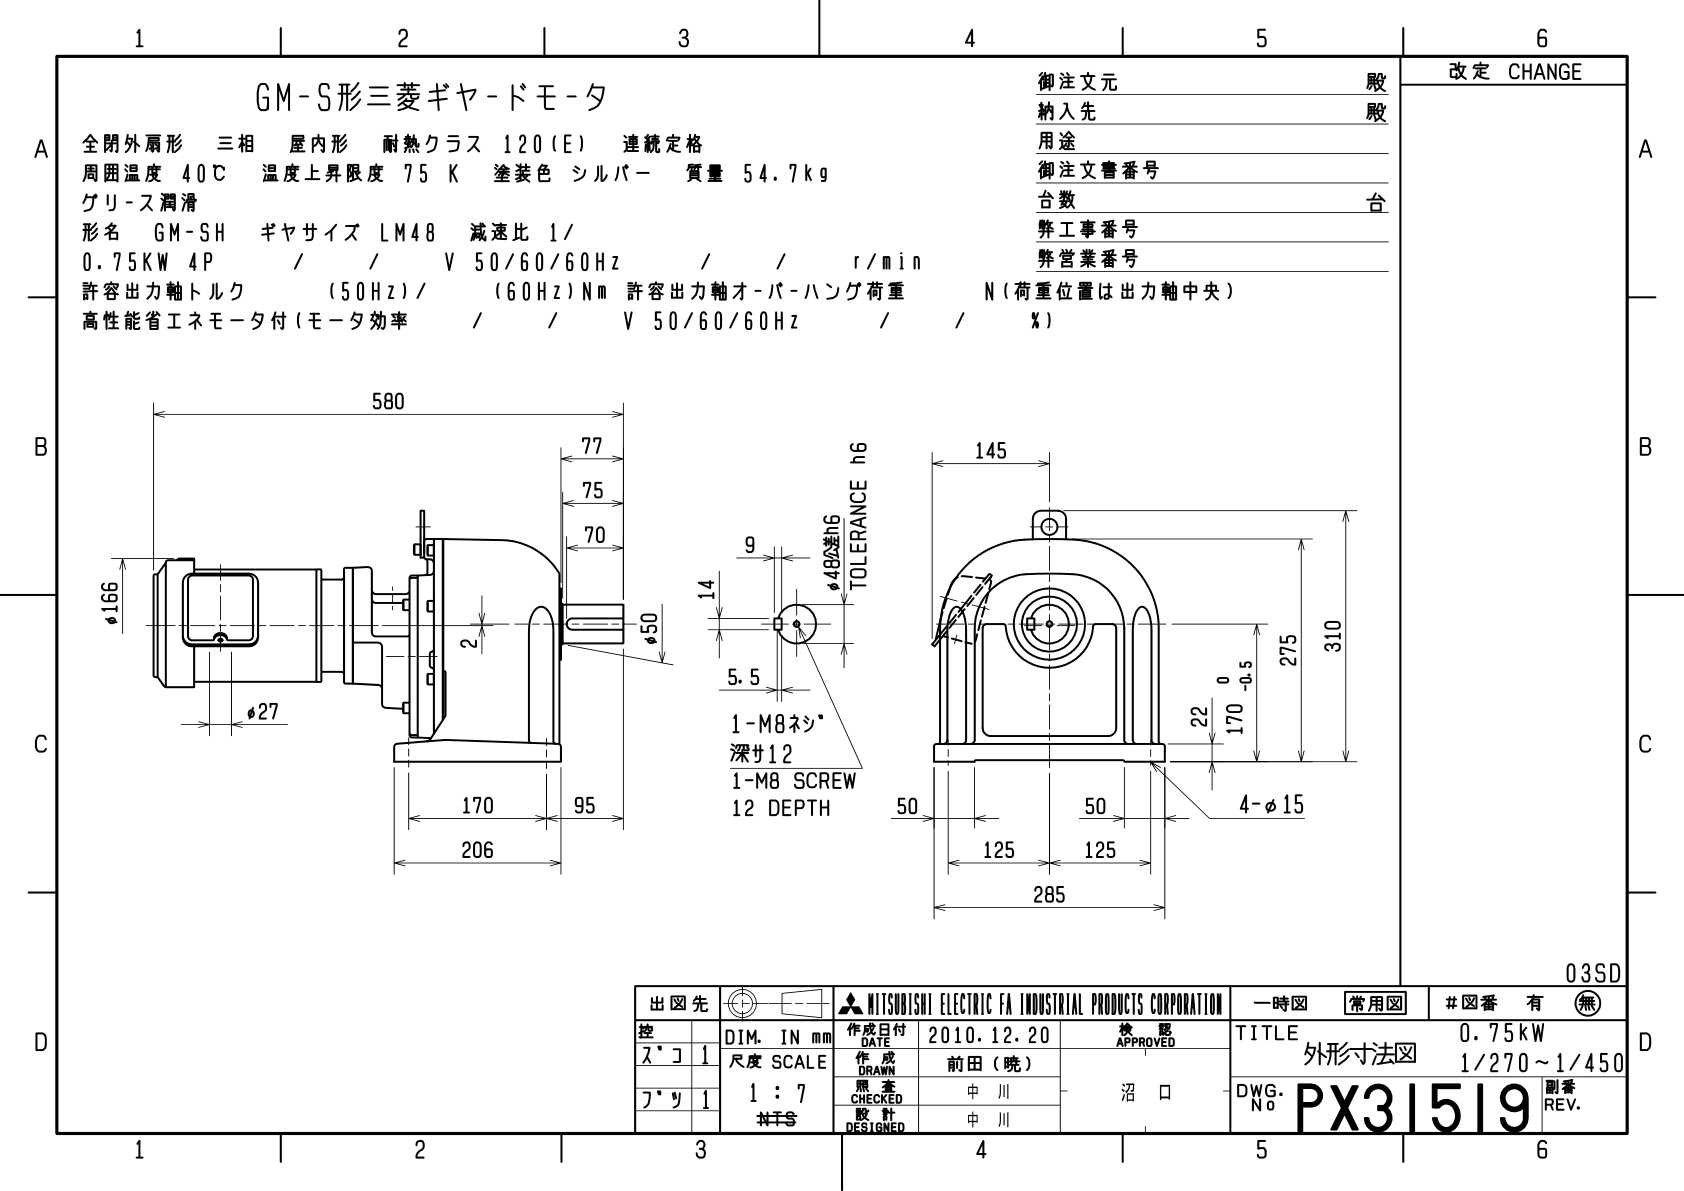GM_S_高効率屋内＿三相_脚: (12, 10, 1684, 1191)
